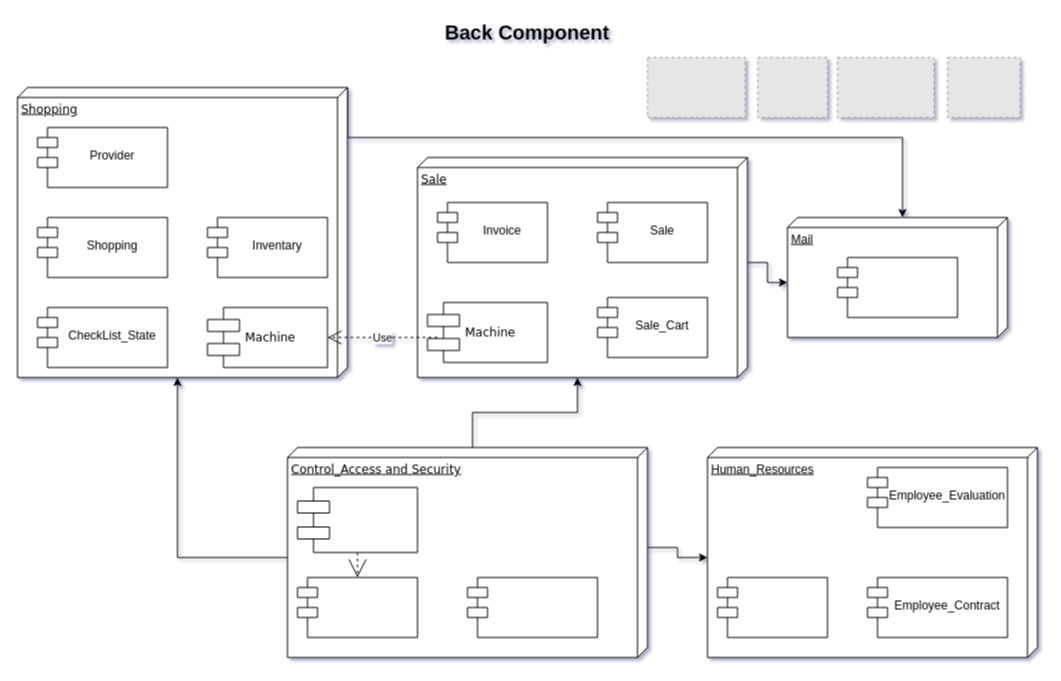
This 1061x681 diagram has some shape labels left out. Grey dashed boxes stand in for pictures. The centre of each missing label's shape, as x and y in pixels:
"Employee" goes at pixel 772 607.
"Login" goes at pixel 357 519.
"Manage Role" goes at pixel 532 607.
"SendMail" goes at pixel 897 287.
"Token Security" goes at pixel 357 607.
